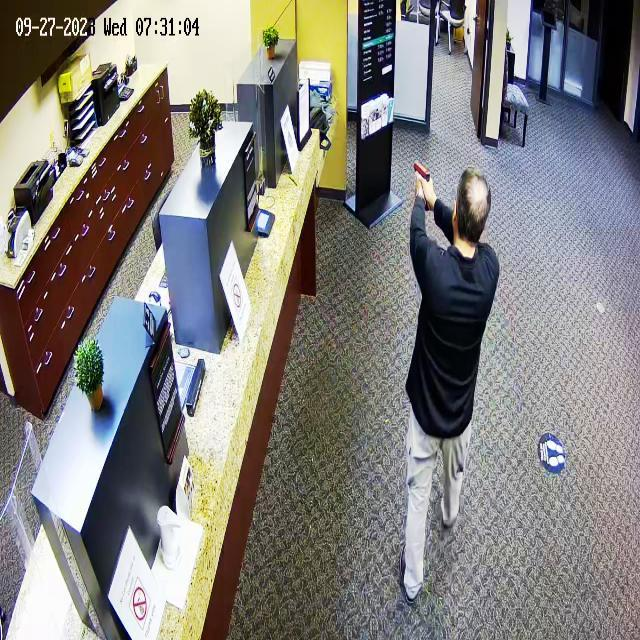Gun: (406, 149, 438, 191)
